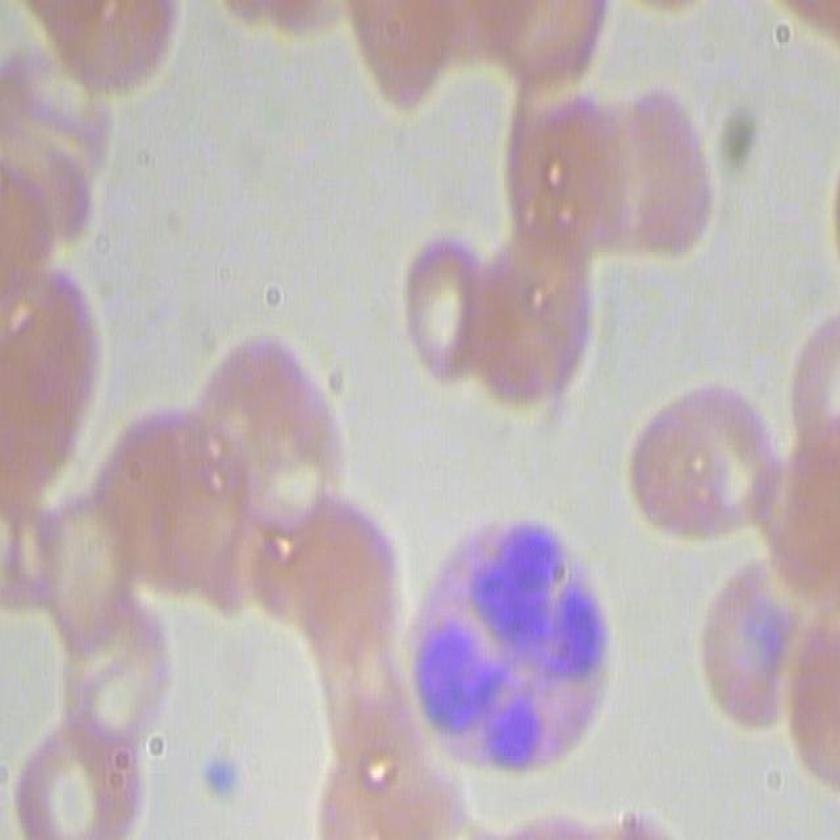neutrophil: (392, 491, 621, 772)
